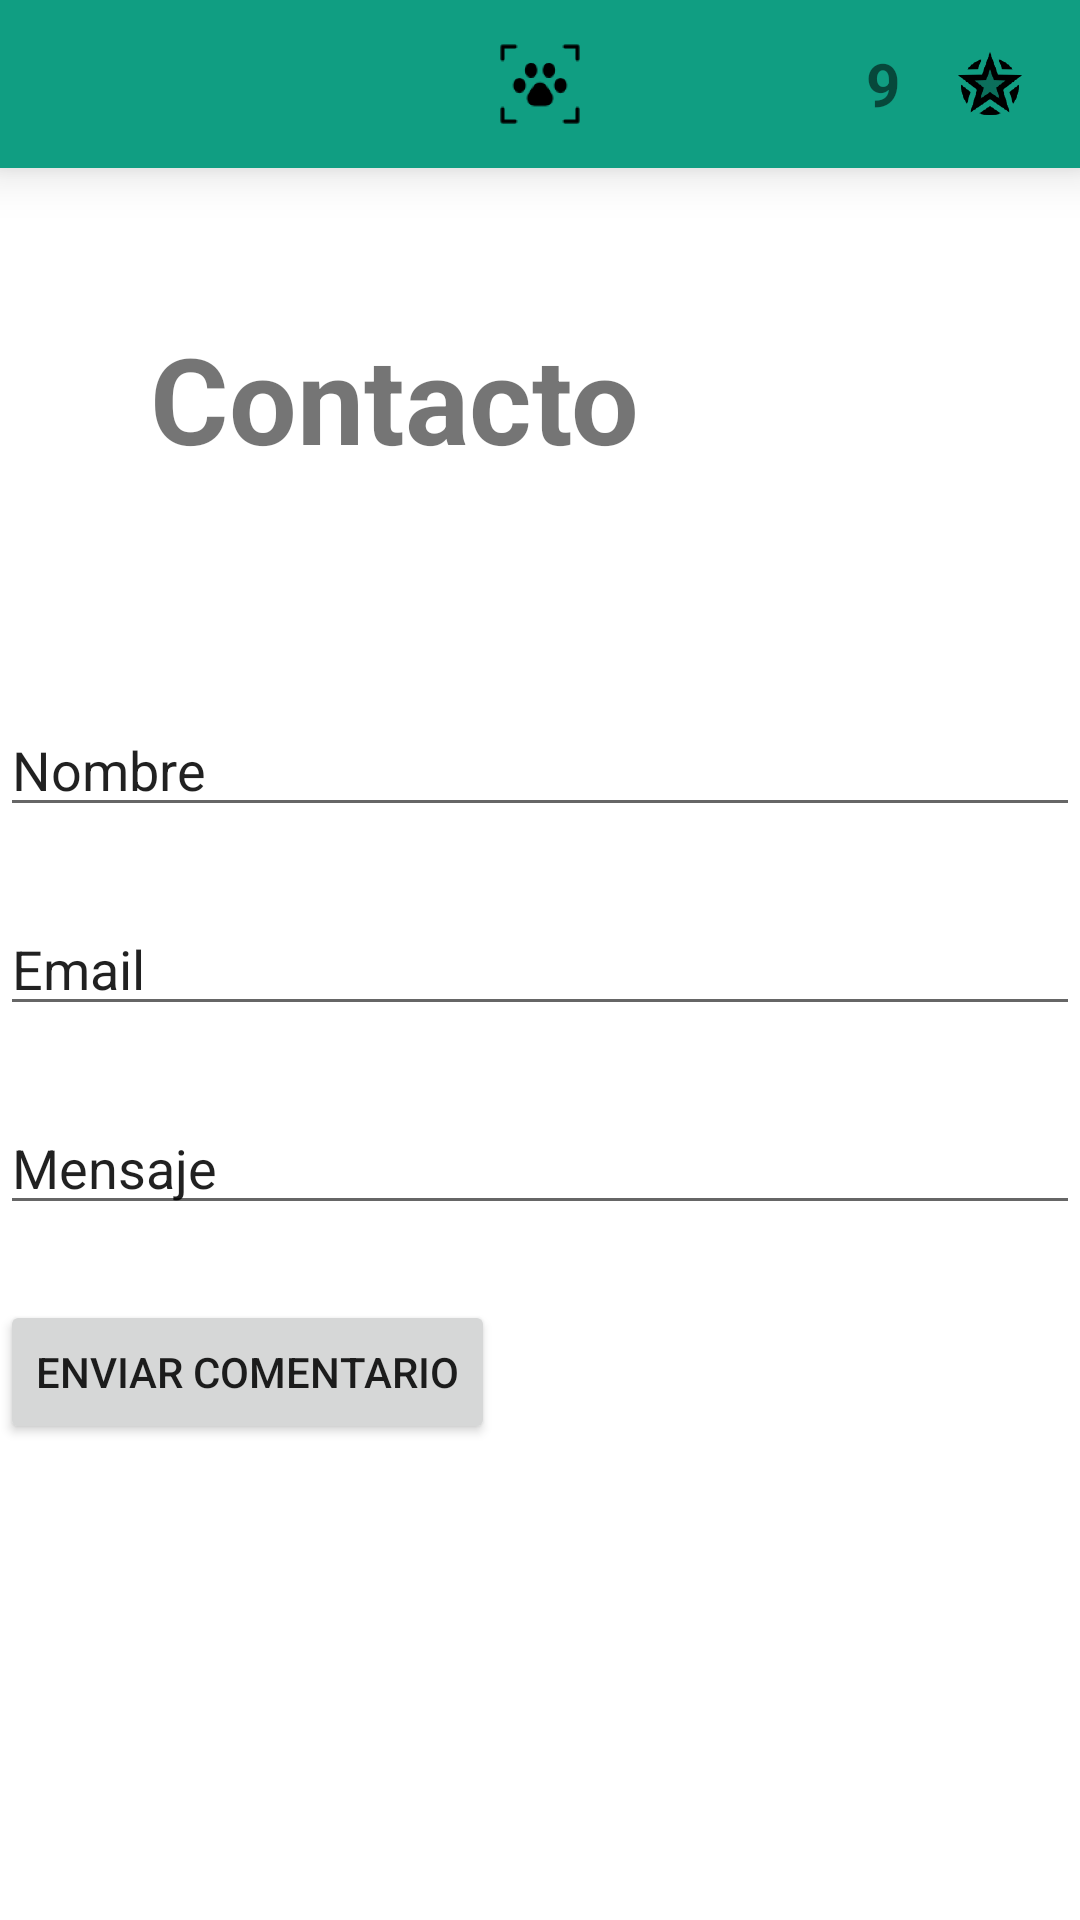

Screen size 1080px x 1920px. Icon name, then its center in pixels as [x,y]:
star: [990,83]
